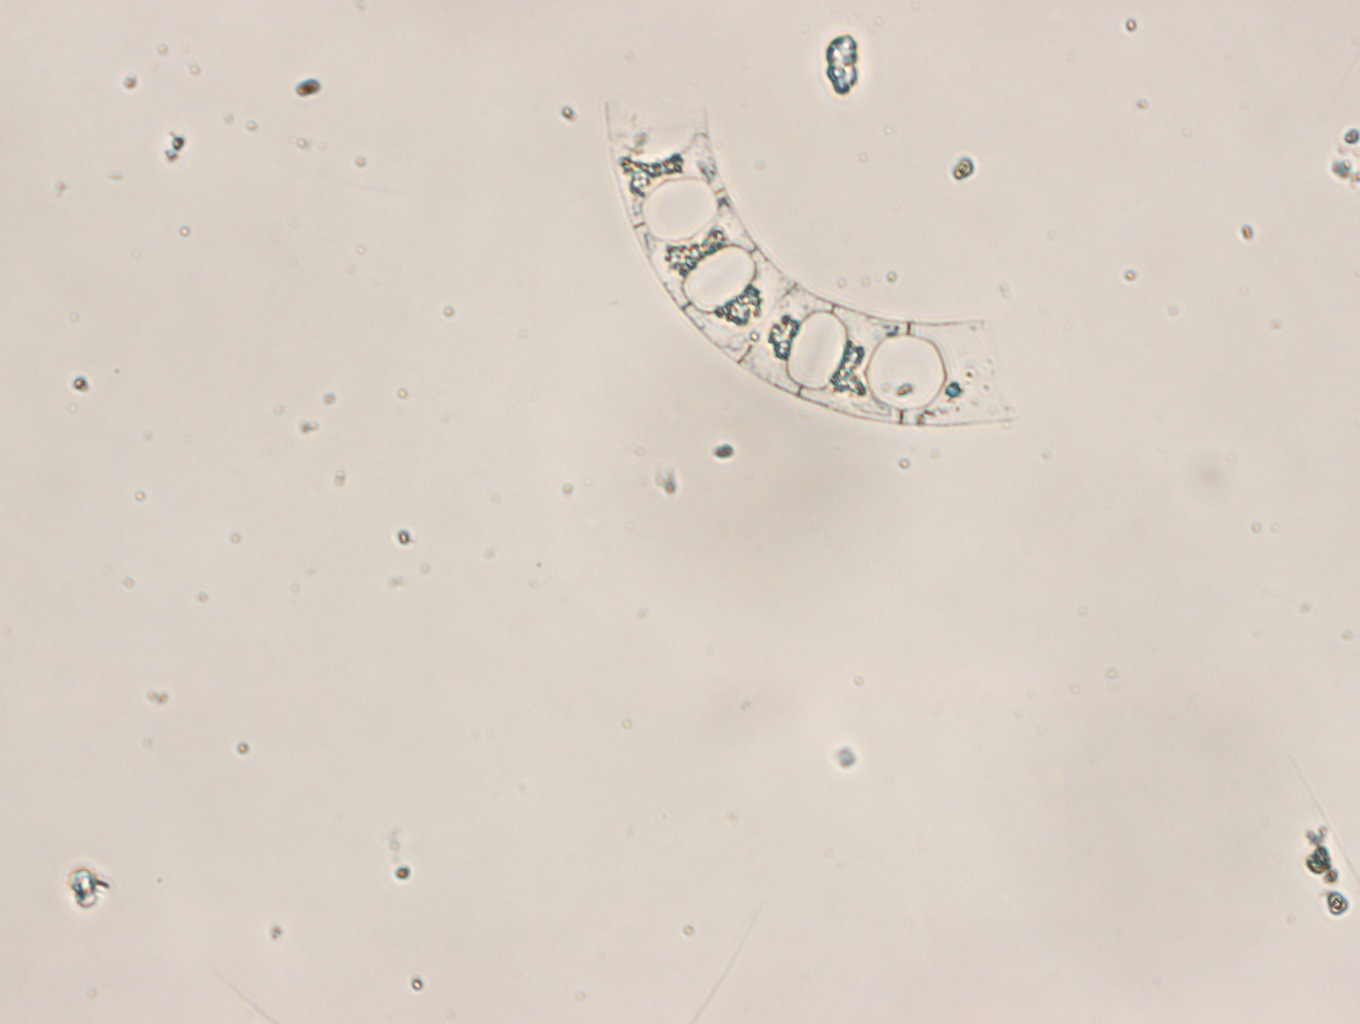eucampia: (606, 99, 1020, 427)
